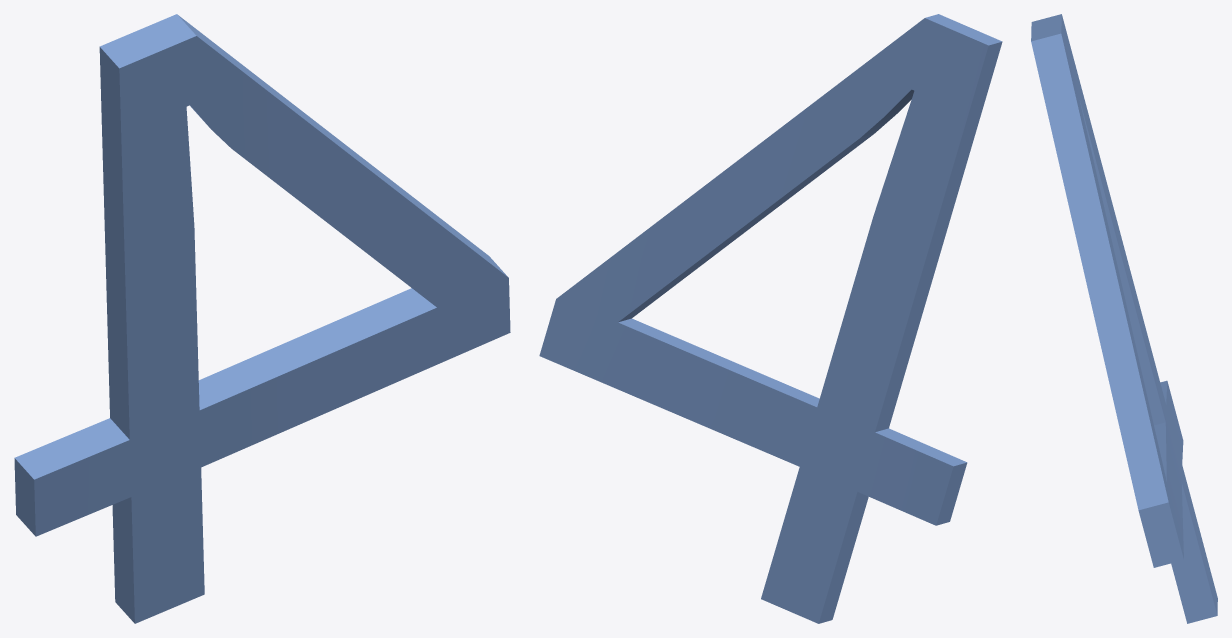
File: Number_4.gltf
The picture shows the model from 3 angles, left to right: view 1: azimuth 30°, elevation 25°; view 2: azimuth 150°, elevation 25°; view 3: azimuth 270°, elevation 25°; orthographic projection. The views are drawn at different scales.
Parts seen in each view (by area): view 1: Sub_5_Cell_3_1_Number_4; view 2: Sub_5_Cell_3_1_Number_4; view 3: Sub_5_Cell_3_1_Number_4.
Part boxes in pixels (left/top/right/bottom): Sub_5_Cell_3_1_Number_4: left=14, top=14, right=510, bottom=623; Sub_5_Cell_3_1_Number_4: left=539, top=14, right=1002, bottom=623; Sub_5_Cell_3_1_Number_4: left=1031, top=14, right=1217, bottom=623.
Size of the model in its own units: 0.0189 by 0.025 by 0.00757.
